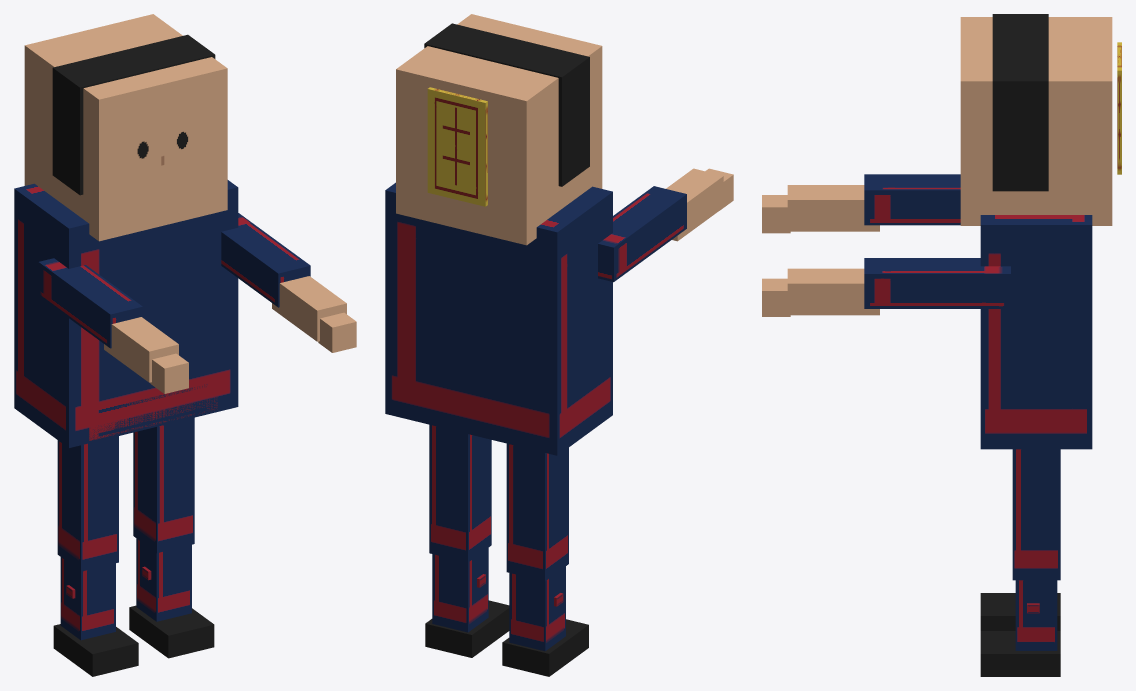
The model's file is kyonshi_model.obj.
3 views of the same model, side by side, from view 1: azimuth 30°, elevation 25°; view 2: azimuth 150°, elevation 25°; view 3: azimuth 270°, elevation 25° (orthographic). The views are drawn at different scales.
Visible parts, largest first — view 1: torso, head, thigh_-1, thigh_1, hair_back, upper_arm_-1, upper_arm_1, calf_-1, calf_1, sash, foot_-1, foot_1 (+4 smaller); view 2: torso, head, thigh_-1, thigh_1, hair_back, forehead_talisman, upper_arm_-1, calf_-1, calf_1, foot_-1, foot_1, forearm_-1; view 3: torso, head, hair_back, upper_arm_1, thigh_1, upper_arm_-1, forearm_1, forearm_-1, calf_1, foot_1, foot_-1, hand_-1 (+2 smaller).
Part boxes in pixels (box(x1,y1,x2,y2)): torso: box(14, 180, 238, 447); head: box(24, 14, 227, 241); thigh_-1: box(57, 436, 118, 571); thigh_1: box(133, 417, 194, 552); hair_back: box(52, 34, 215, 195); upper_arm_-1: box(38, 258, 142, 348); upper_arm_1: box(221, 213, 310, 307); calf_-1: box(60, 557, 115, 640); calf_1: box(136, 538, 191, 621); sash: box(89, 379, 217, 440); foot_-1: box(53, 624, 138, 676); foot_1: box(129, 605, 214, 658); torso: box(385, 182, 612, 455); head: box(396, 14, 602, 245); thigh_-1: box(506, 443, 568, 581); thigh_1: box(429, 424, 491, 562); hair_back: box(424, 23, 589, 186); forehead_talisman: box(427, 87, 487, 206); upper_arm_-1: box(598, 186, 686, 282); calf_-1: box(509, 566, 565, 651); calf_1: box(432, 548, 488, 632); foot_-1: box(502, 619, 588, 676); foot_1: box(425, 600, 509, 657); forearm_-1: box(666, 168, 723, 241); torso: box(980, 215, 1092, 449); head: box(960, 17, 1112, 225); hair_back: box(992, 14, 1048, 191); upper_arm_1: box(864, 258, 1010, 308); thigh_1: box(1012, 449, 1060, 580); upper_arm_-1: box(864, 174, 960, 225); forearm_1: box(787, 268, 879, 315); forearm_-1: box(787, 185, 879, 231); calf_1: box(1015, 580, 1057, 650); foot_1: box(980, 631, 1060, 676); foot_-1: box(980, 593, 1060, 630); hand_-1: box(762, 195, 790, 233).
Size of the model in its own units: 1.48 by 4.14 by 2.26.
5 materials, 5 textured.
